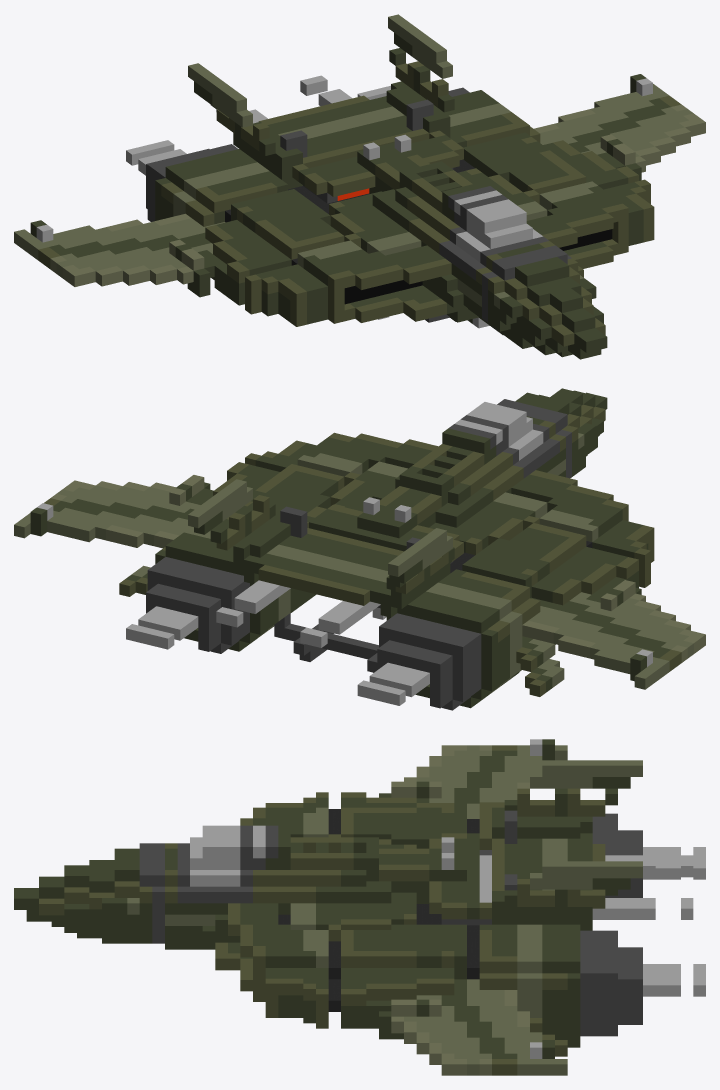
File: Startship(1).fbx
3 renders of one model, top to bottom at view 1: azimuth 30°, elevation 25°; view 2: azimuth 150°, elevation 25°; view 3: azimuth 270°, elevation 25°, orthographic. The views are drawn at different scales.
Visible parts, largest first — view 1: Starship, Cabin, Props, Lights; view 2: Starship, Props, Cabin, Lights; view 3: Starship, Props, Cabin, Lights.
Part boxes in pixels (left/top/right/bottom): Starship: left=14, top=14, right=705, bottom=359; Cabin: left=454, top=190, right=542, bottom=262; Props: left=126, top=75, right=390, bottom=175; Lights: left=36, top=78, right=652, bottom=328; Starship: left=14, top=388, right=705, bottom=710; Props: left=126, top=580, right=429, bottom=705; Cabin: left=455, top=402, right=543, bottom=460; Lights: left=37, top=497, right=652, bottom=666; Starship: left=14, top=739, right=642, bottom=1075; Props: left=479, top=847, right=705, bottom=996; Cabin: left=190, top=825, right=265, bottom=886; Lights: left=441, top=739, right=542, bottom=1058.
Bounding box in the file's own units: 6 × 1.6 × 5.5.
